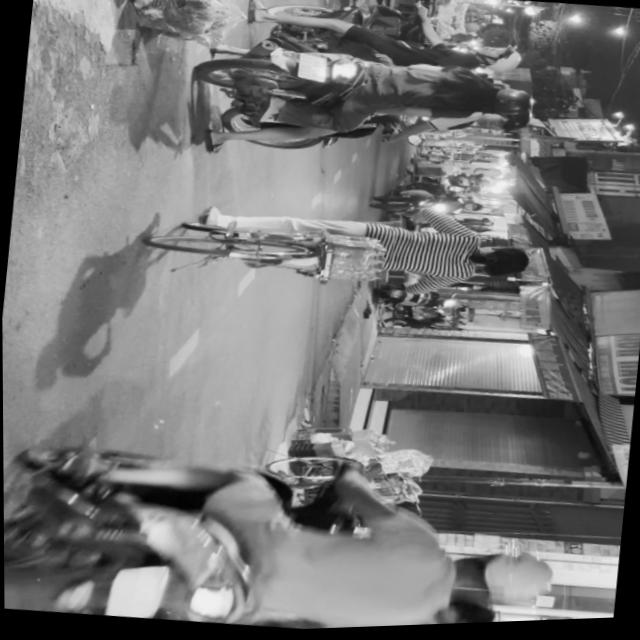helmet: (448, 547, 555, 615), (479, 86, 534, 123), (474, 46, 523, 79)
licenseplate: (3, 418, 567, 640), (185, 33, 541, 185), (44, 583, 530, 639)
motorcyclist: (435, 601, 501, 627)
nohelmet: (105, 564, 166, 622), (297, 55, 328, 85)
